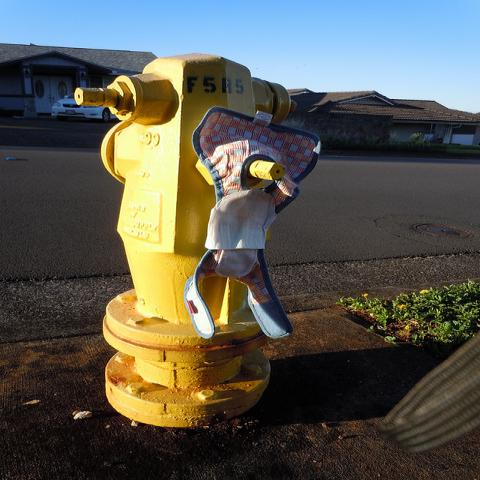car: (51, 92, 117, 123)
